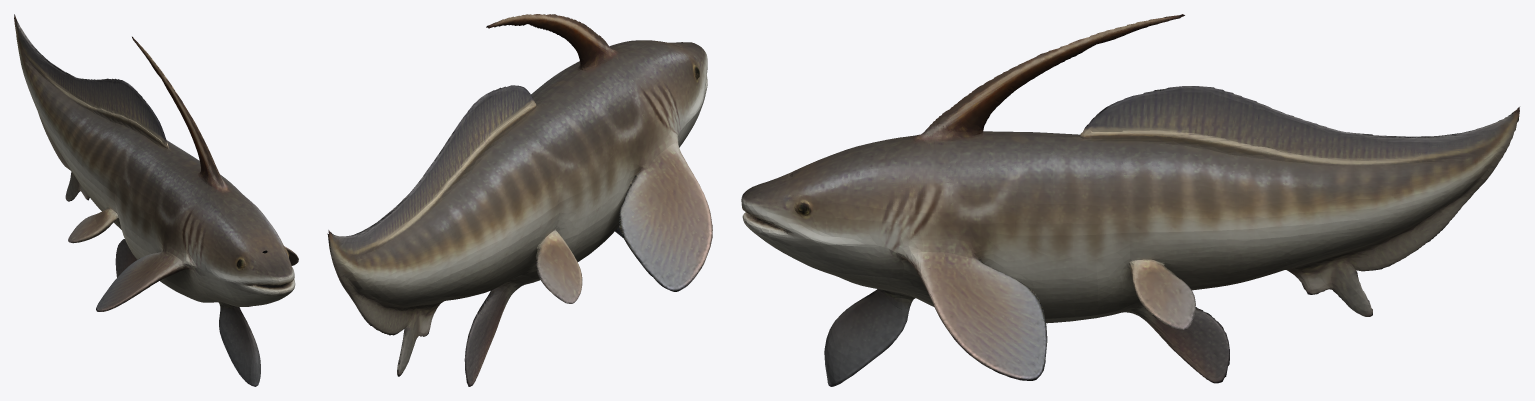
3 renders of one model, left to right at view 1: azimuth 30°, elevation 25°; view 2: azimuth 150°, elevation 25°; view 3: azimuth 270°, elevation 25°, orthographic. The views are drawn at different scales.
Parts seen in each view (by area): view 1: world; view 2: world; view 3: world.
Boxes of the visible parts, box(x1,y1,x2,y2) form: world: box(14, 14, 298, 386); world: box(327, 14, 712, 386); world: box(741, 14, 1519, 386).
Size of the model in its own units: 0.3955 by 0.5269 by 1.
Materials: 1 (1 with a texture image).
